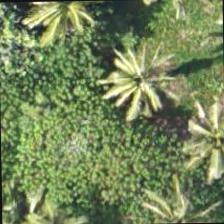Kelapa_Sawit: (92, 34, 184, 126), (170, 95, 223, 188), (19, 0, 110, 50)
